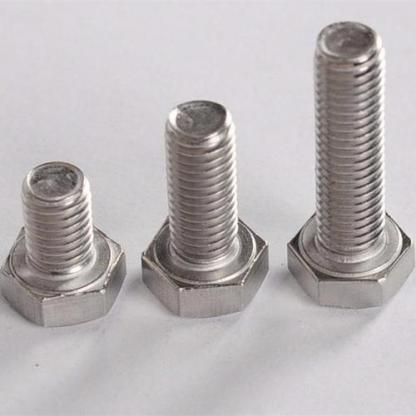FOD: (283, 15, 415, 312), (134, 96, 274, 319), (0, 158, 130, 330)
